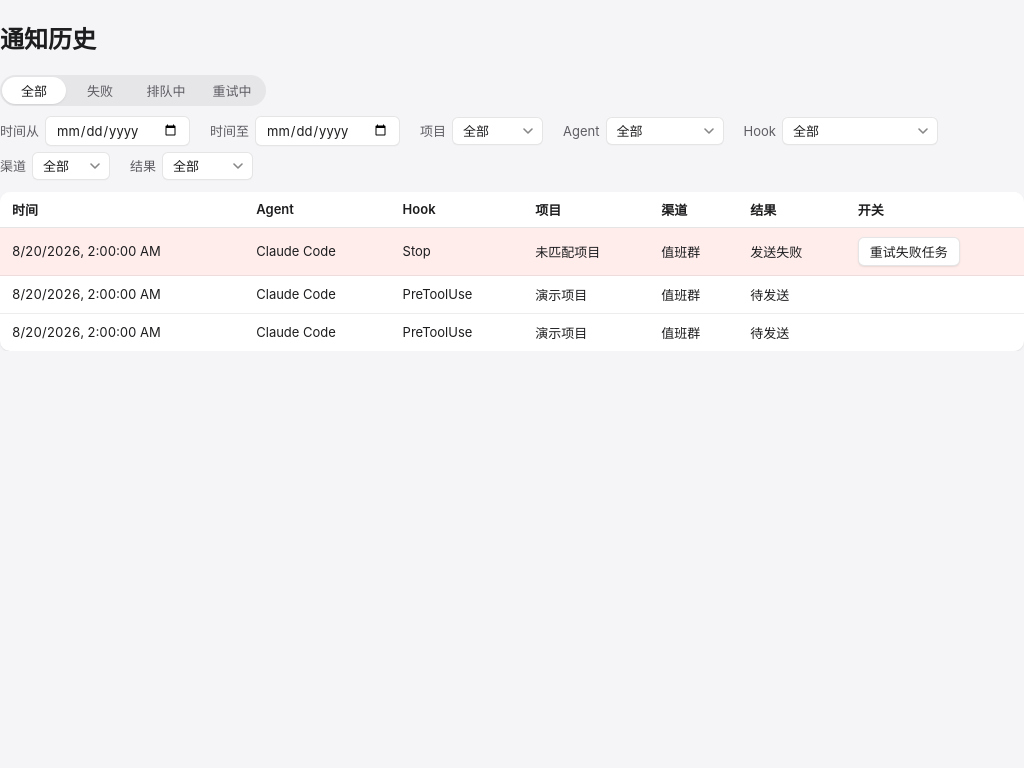
Test: history filters and detail show only redacted content
The width and height of the screenshot is (1024, 768).
Select "发送失败" in the dropdown labelled "结果" at (208, 166), box [162, 152, 253, 180]
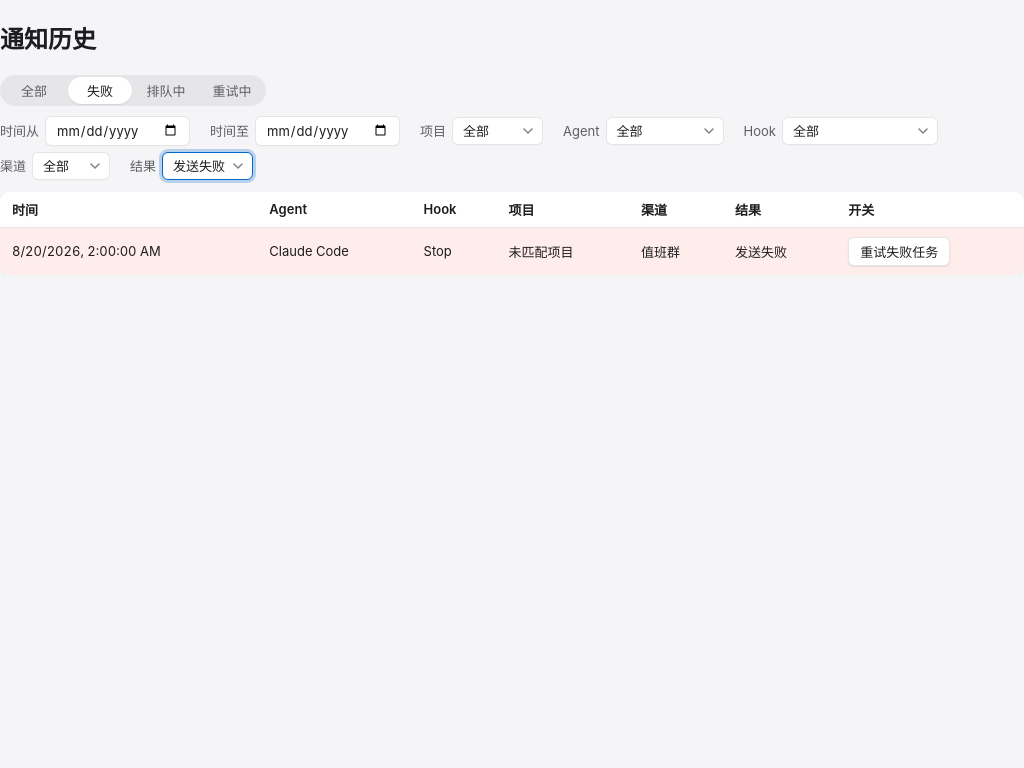
Click the row "8/20/2026, 2:00:00 AM Claude Code Stop 未匹配项目 值班群 发送失败 重试失败任务".
click(512, 251)  # box [0, 228, 1023, 275]
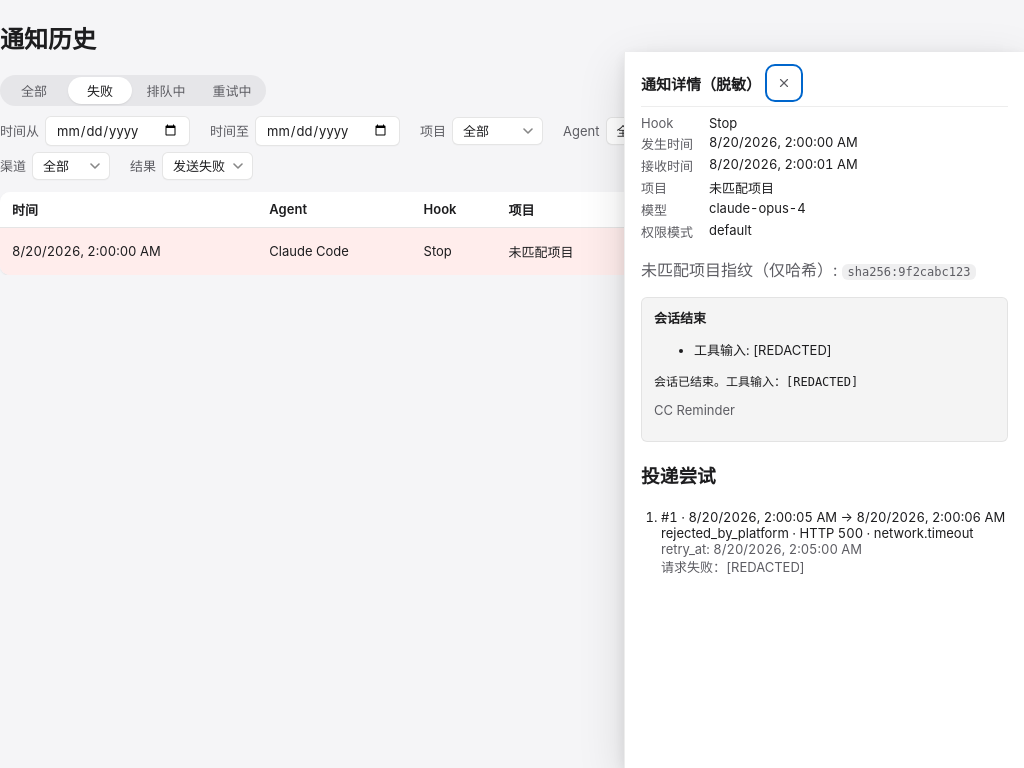
Expected: the dialog shows "[REDACTED]", [753, 342, 832, 358]
